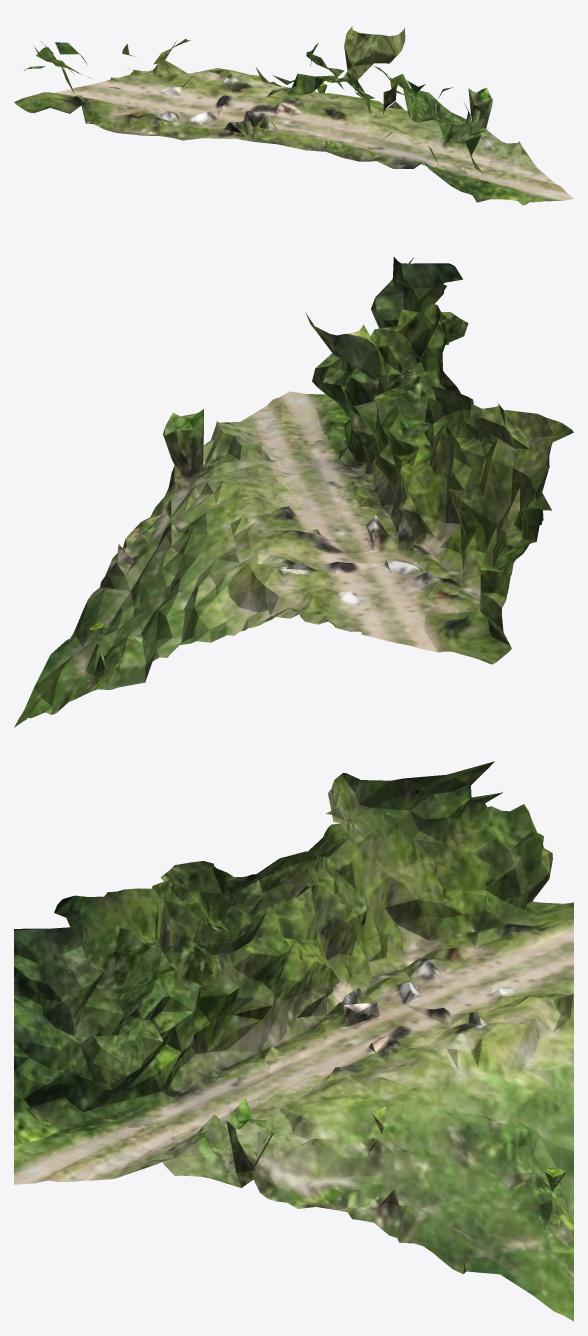
The picture shows the model from 3 angles, top to bottom: view 1: azimuth 30°, elevation 25°; view 2: azimuth 150°, elevation 25°; view 3: azimuth 270°, elevation 25°; orthographic projection. The views are drawn at different scales.
Size of the model in its own units: 26.11 by 16.91 by 26.11.
3 materials, 3 textured.
